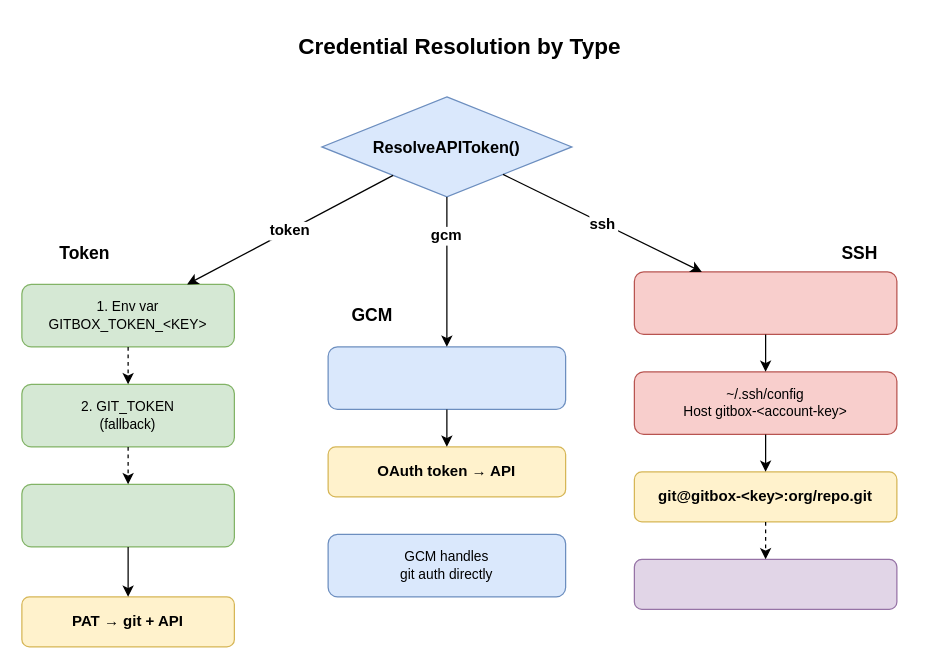
Some shapes in this 931 by 669 pixel diagram are drawn without their labels. Each missing label, with the box of its shape:
3. Credential file ~/.config/gitbox/credentials/: (21, 483, 234, 547)
git credential fill (extracts OAuth token): (327, 346, 566, 409)
Optional PAT in credential file → API: (633, 558, 897, 609)
SSH key pair ~/.ssh/gitbox-<key>-sshkey: (633, 271, 897, 334)
